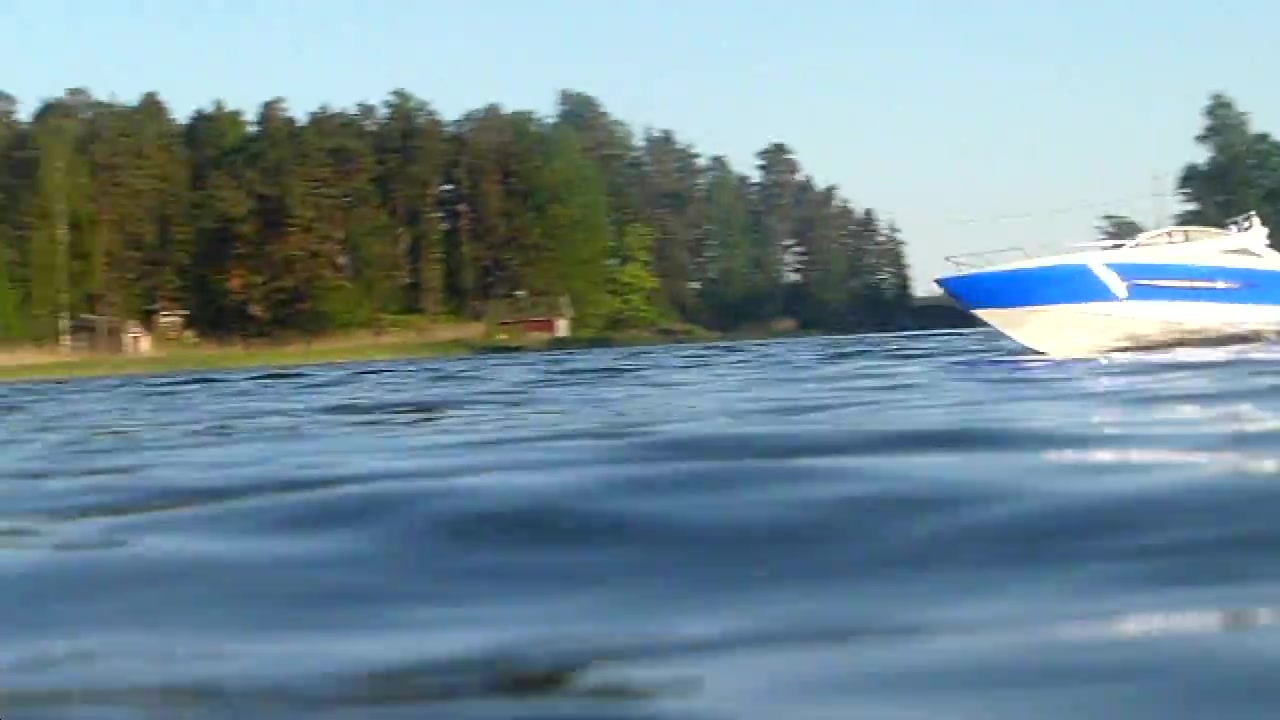boat: (936, 220, 1280, 376)
